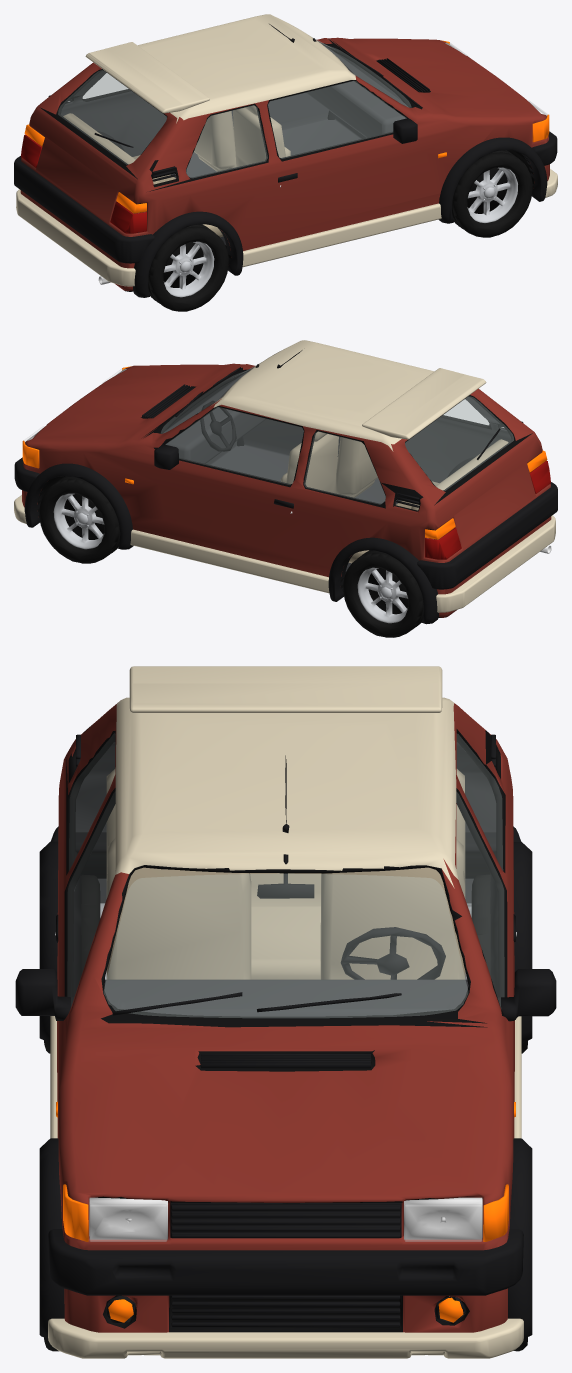
The model's file is hatch-game.glb.
The picture shows the model from 3 angles, top to bottom: view 1: azimuth 30°, elevation 25°; view 2: azimuth 150°, elevation 25°; view 3: azimuth 270°, elevation 25°; orthographic projection. The views are drawn at different scales.
Parts seen in each view (by area): view 1: body, glass_front-1, glass_rear, flares, seats, roof_spoiler, glass_quarter-1, bumper_rear, dashboard, skirts, tyre.fr, tyre.rr (+13 smaller); view 2: body, glass_front1, glass_rear, flares, seats, roof_spoiler, glass_quarter1, bumper_rear, skirts, tyre.fl, tyre.rl, dashboard (+14 smaller); view 3: body, glass_windshield, seats, bumper_front, roof_spoiler, flares, lip_front, dashboard, grille, apron_slats, headlamp_bowl, headlamp_lens (+15 smaller).
Part boxes in pixels (bbox=[...]): body: bbox=[20, 14, 549, 291]; glass_front-1: bbox=[268, 81, 406, 158]; glass_rear: bbox=[58, 70, 166, 164]; flares: bbox=[96, 110, 547, 297]; seats: bbox=[63, 105, 290, 237]; roof_spoiler: bbox=[85, 42, 209, 113]; glass_quarter-1: bbox=[186, 105, 267, 177]; bumper_rear: bbox=[14, 156, 154, 263]; dashboard: bbox=[305, 46, 408, 137]; skirts: bbox=[242, 203, 441, 267]; tyre.fr: bbox=[452, 150, 532, 237]; tyre.rr: bbox=[148, 224, 228, 311]; body: bbox=[22, 340, 551, 617]; glass_front1: bbox=[165, 407, 303, 484]; glass_rear: bbox=[405, 396, 513, 490]; flares: bbox=[24, 436, 475, 624]; seats: bbox=[280, 431, 508, 563]; roof_spoiler: bbox=[362, 368, 486, 439]; glass_quarter1: bbox=[304, 431, 385, 504]; bumper_rear: bbox=[417, 482, 557, 589]; skirts: bbox=[130, 529, 329, 593]; tyre.fl: bbox=[39, 476, 120, 563]; tyre.rl: bbox=[343, 550, 423, 637]; dashboard: bbox=[163, 372, 266, 463]; body: bbox=[57, 697, 514, 1332]; glass_windshield: bbox=[104, 874, 467, 1017]; seats: bbox=[106, 769, 465, 979]; bumper_front: bbox=[48, 1229, 523, 1295]; roof_spoiler: bbox=[129, 666, 442, 712]; flares: bbox=[39, 841, 532, 1338]; lip_front: bbox=[48, 1318, 523, 1358]; dashboard: bbox=[104, 979, 468, 1016]; grille: bbox=[170, 1202, 401, 1238]; apron_slats: bbox=[171, 1295, 400, 1327]; headlamp_bowl: bbox=[89, 1197, 482, 1239]; headlamp_lens: bbox=[90, 1204, 481, 1241].
Bounding box in the file's own units: 3.57 × 1.62 × 1.87.
